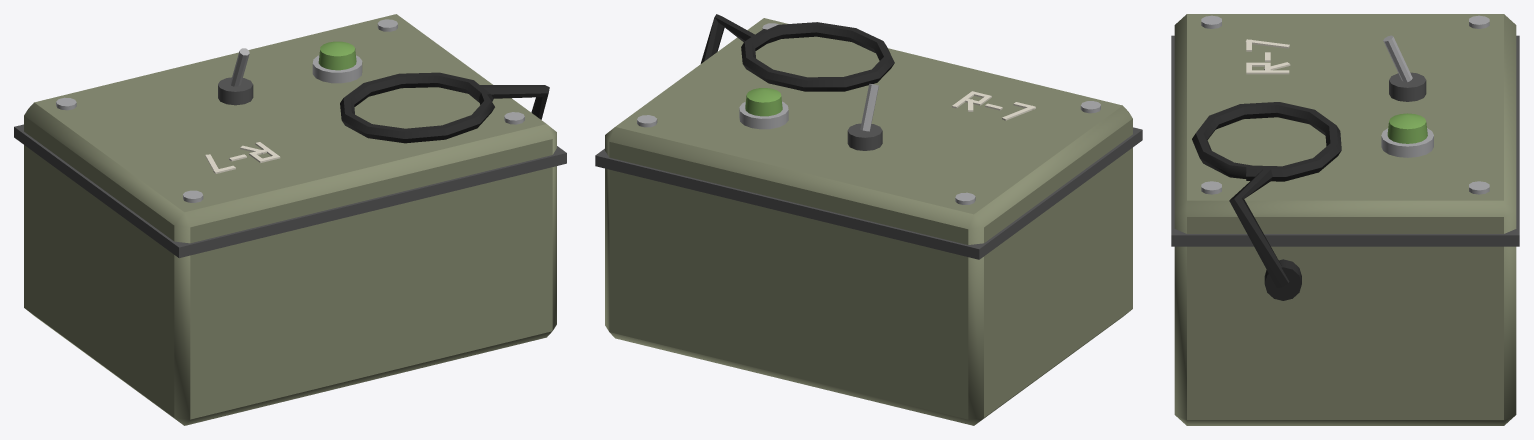
Rendered from relay_box.glb.
The picture shows the model from 3 angles, left to right: view 1: azimuth 30°, elevation 25°; view 2: azimuth 150°, elevation 25°; view 3: azimuth 270°, elevation 25°; orthographic projection. The views are drawn at different scales.
Parts seen in each view (by area): view 1: body; view 2: body; view 3: body.
Boxes of the visible parts, bbox=[...] form: body: bbox=[14, 14, 566, 425]; body: bbox=[595, 14, 1142, 425]; body: bbox=[1171, 14, 1519, 425].
Bounding box in the file's own units: 0.1595 × 0.1004 × 0.112.
